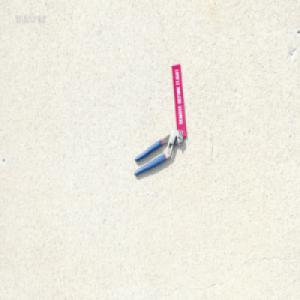Label: (170, 64, 187, 138)
Pliers: (133, 128, 183, 177)
